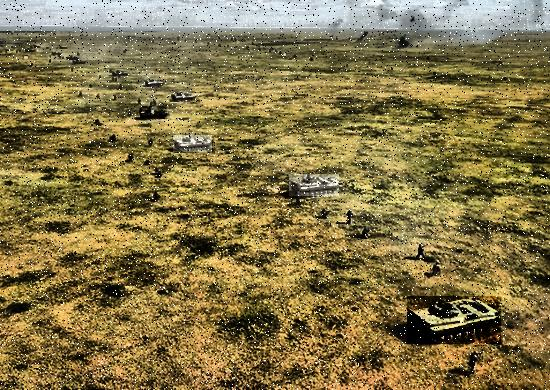military-vehicle: (408, 296, 502, 344), (289, 175, 339, 197), (174, 135, 213, 152), (141, 106, 168, 119), (172, 91, 195, 101)
